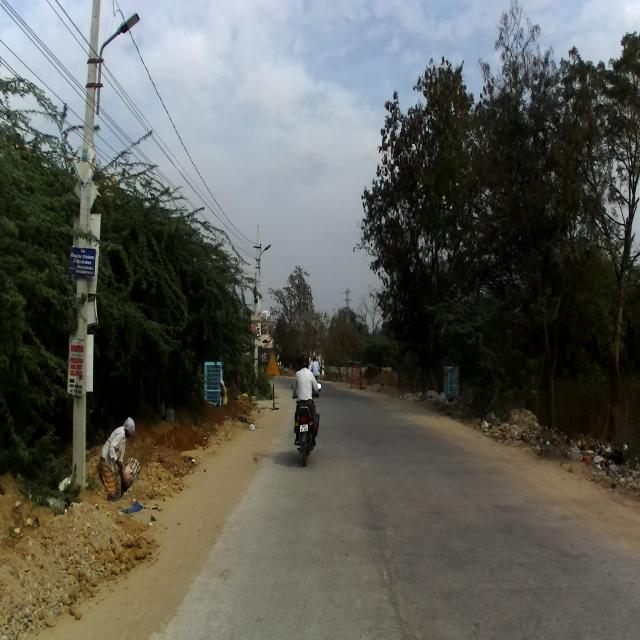electric pole ahead at: (61, 0, 146, 414)
motorcycle ahead at: (289, 394, 325, 466)
